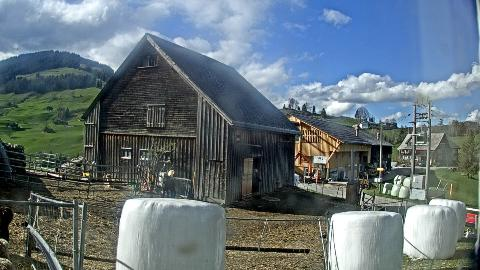car: (418, 162, 426, 166)
sheep: (0, 238, 17, 270), (0, 207, 14, 243), (320, 210, 334, 238), (160, 174, 176, 198), (106, 174, 122, 188), (252, 168, 258, 186)
